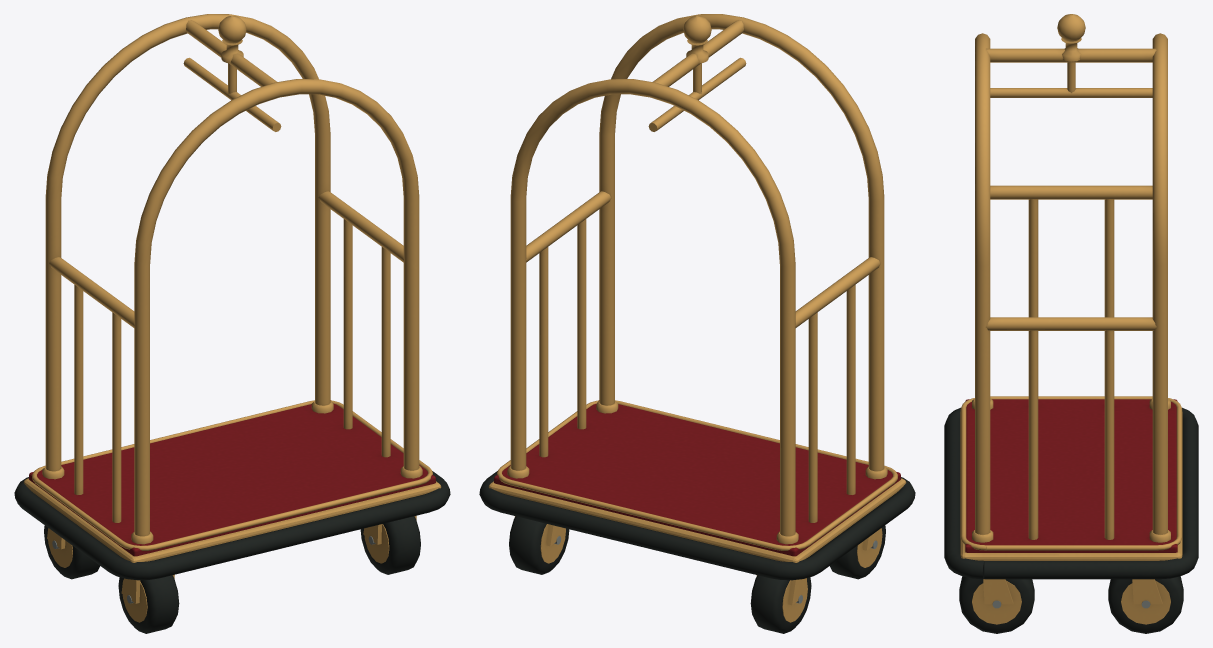
Rendered from vegas_bellhop_cart.glb.
3 views of the same model, side by side, from view 1: azimuth 30°, elevation 25°; view 2: azimuth 150°, elevation 25°; view 3: azimuth 270°, elevation 25° (orthographic).
Parts seen in each view (by area): view 1: vegas_bellhop_cart_Body; view 2: vegas_bellhop_cart_Body; view 3: vegas_bellhop_cart_Body.
Boxes of the visible parts, x1,y1,x2,y2 form: vegas_bellhop_cart_Body: (14,14,450,633); vegas_bellhop_cart_Body: (479,14,915,633); vegas_bellhop_cart_Body: (944,14,1198,633).
Size of the model in its own units: 1.23 by 1.93 by 0.802.
Materials: 1 (1 with a texture image).
